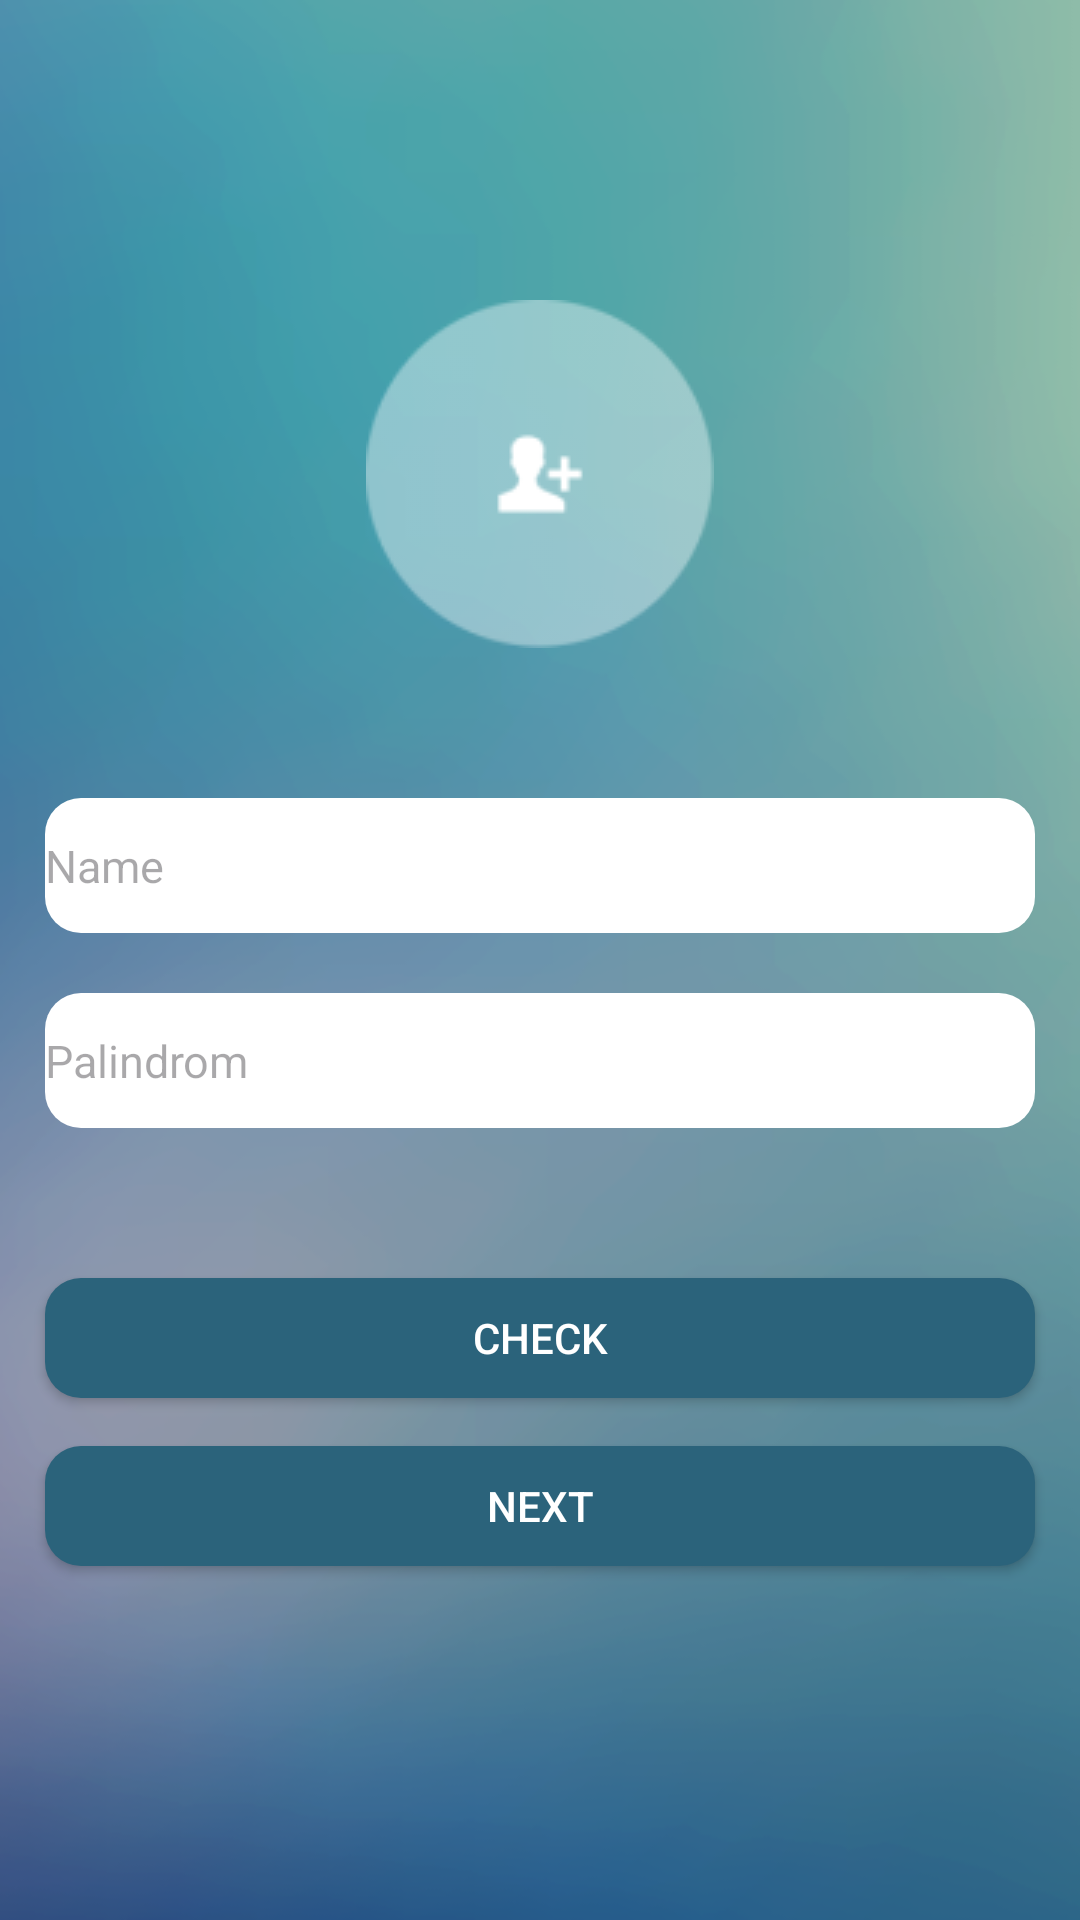

Locate icon controls on the screen. Image size 1080x1920, boxes as (x1, y1, x2, y2).
photo: (366, 300, 714, 646)
